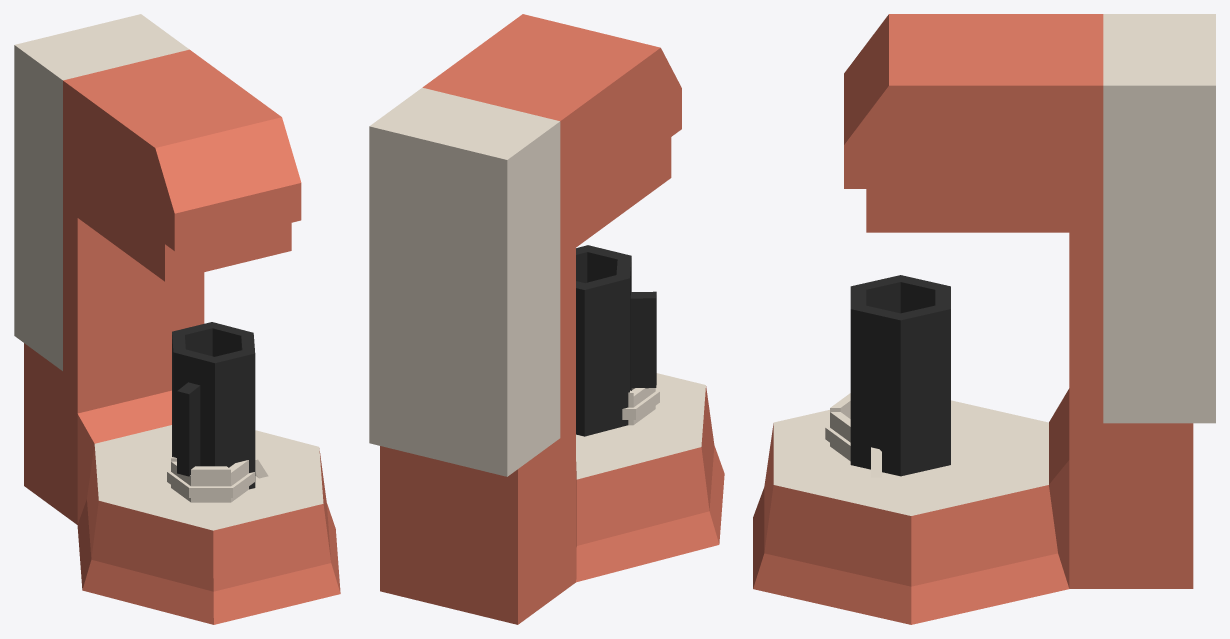
File: coffee_b.glb
The picture shows the model from 3 angles, left to right: view 1: azimuth 30°, elevation 25°; view 2: azimuth 150°, elevation 25°; view 3: azimuth 270°, elevation 25°; orthographic projection. The views are drawn at different scales.
Parts seen in each view (by area): view 1: body; view 2: body; view 3: body.
Part boxes in pixels (box(x1,y1,x2,y2)): body: box(14, 14, 340, 624); body: box(369, 14, 724, 624); body: box(753, 14, 1215, 624).
Size of the model in its own units: 0.22 by 0.36 by 0.3.
